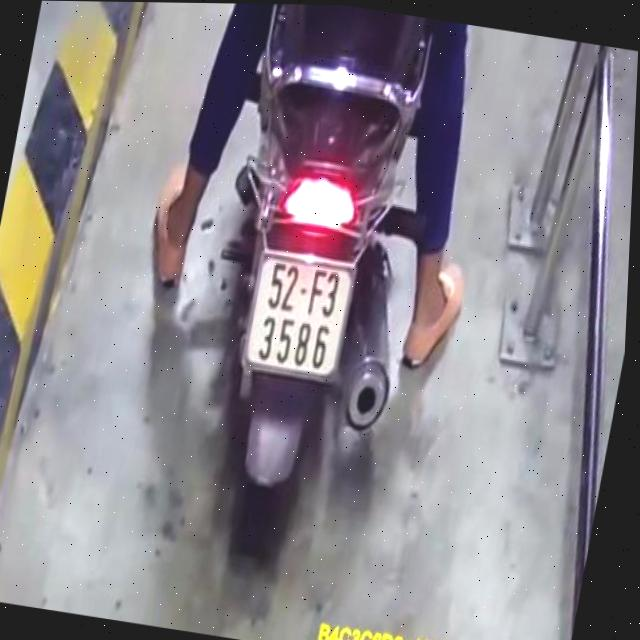motorcycle: (158, 3, 470, 570)
plate: (229, 237, 363, 387)
